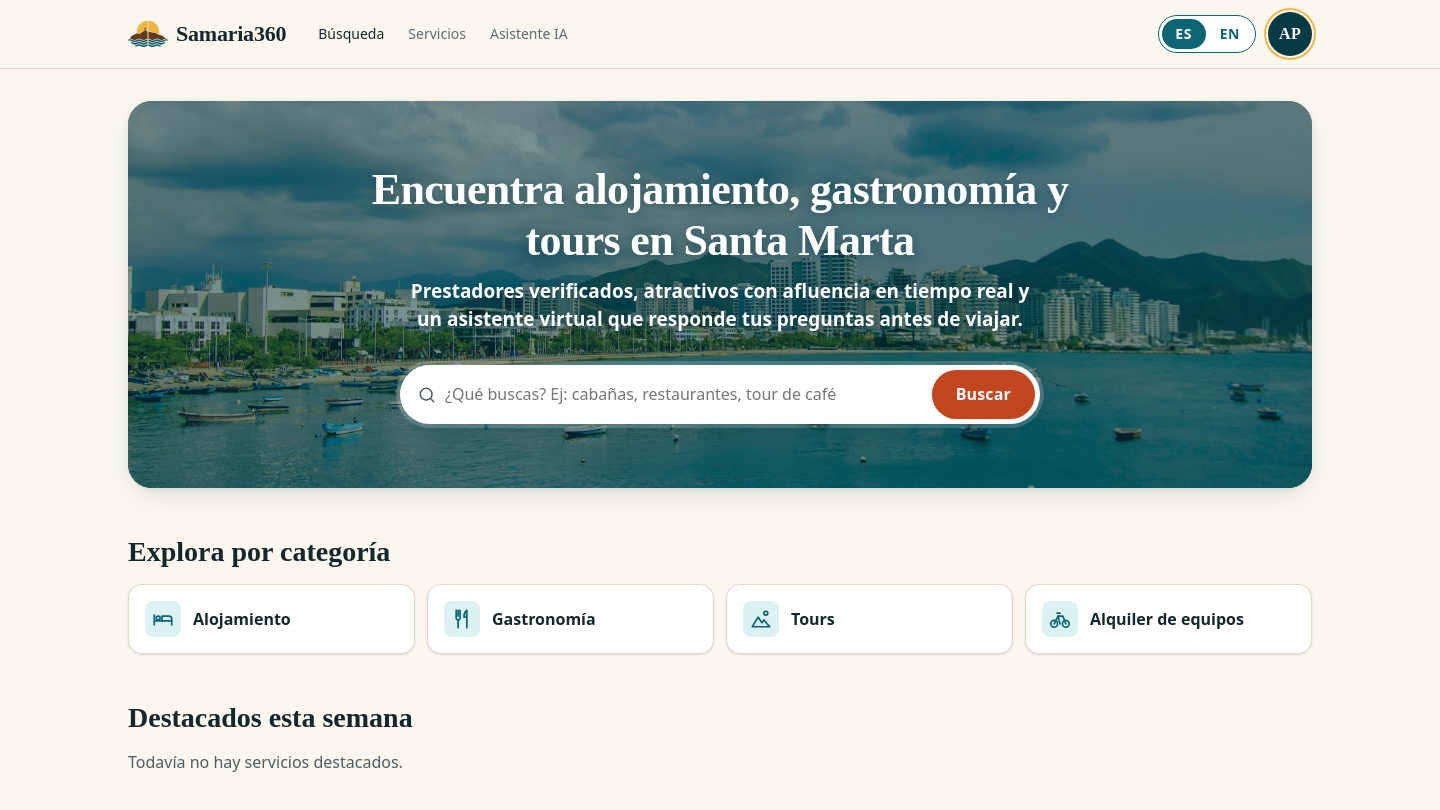
Test: Encabezado según la sesión › al cerrar sesión, el enlace vuelve sin recargar
The width and height of the screenshot is (1440, 810).
Click the button with aria-label "Menú de usuario de Ana Pérez".
click(1290, 34)  # box [1268,12,1312,56]
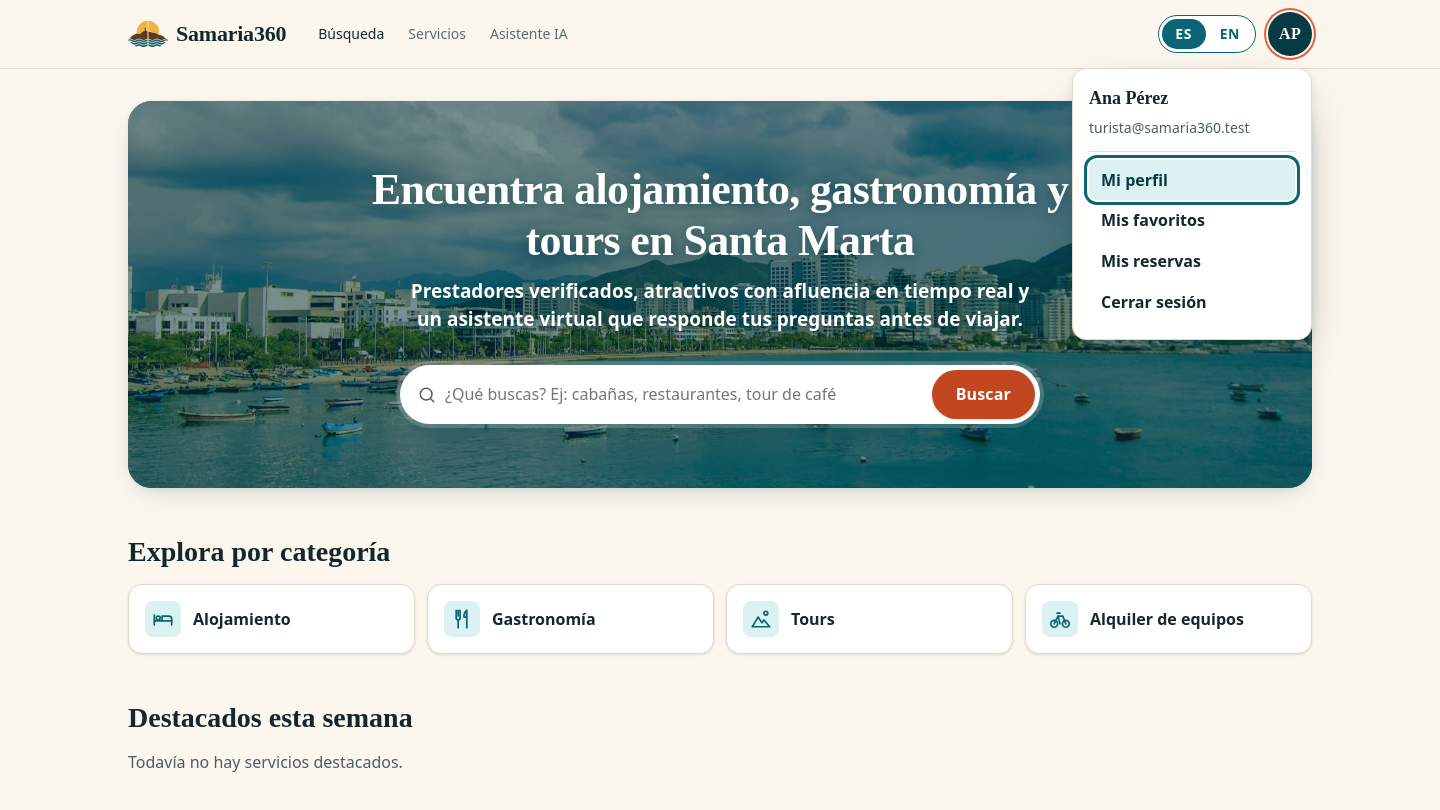
Click the menu item "Cerrar sesión".
click(1192, 302)  # box [1089,282,1295,323]
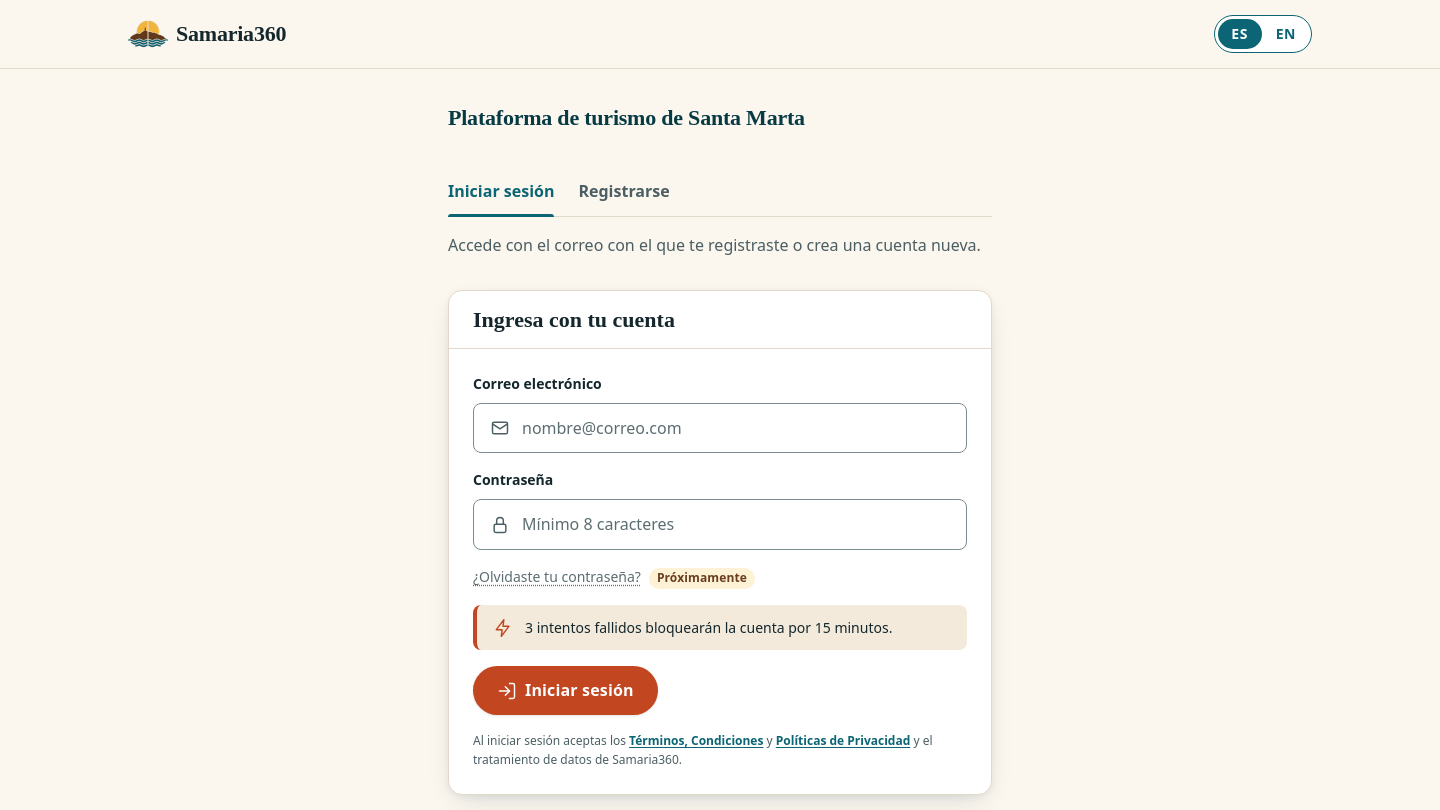
Expected: the field labelled "Correo electrónico" is shown, [522,404,950,452]
Click the link with aria-label "Samaria360, ir al inicio".
click(207, 34)  # box [128,14,286,54]
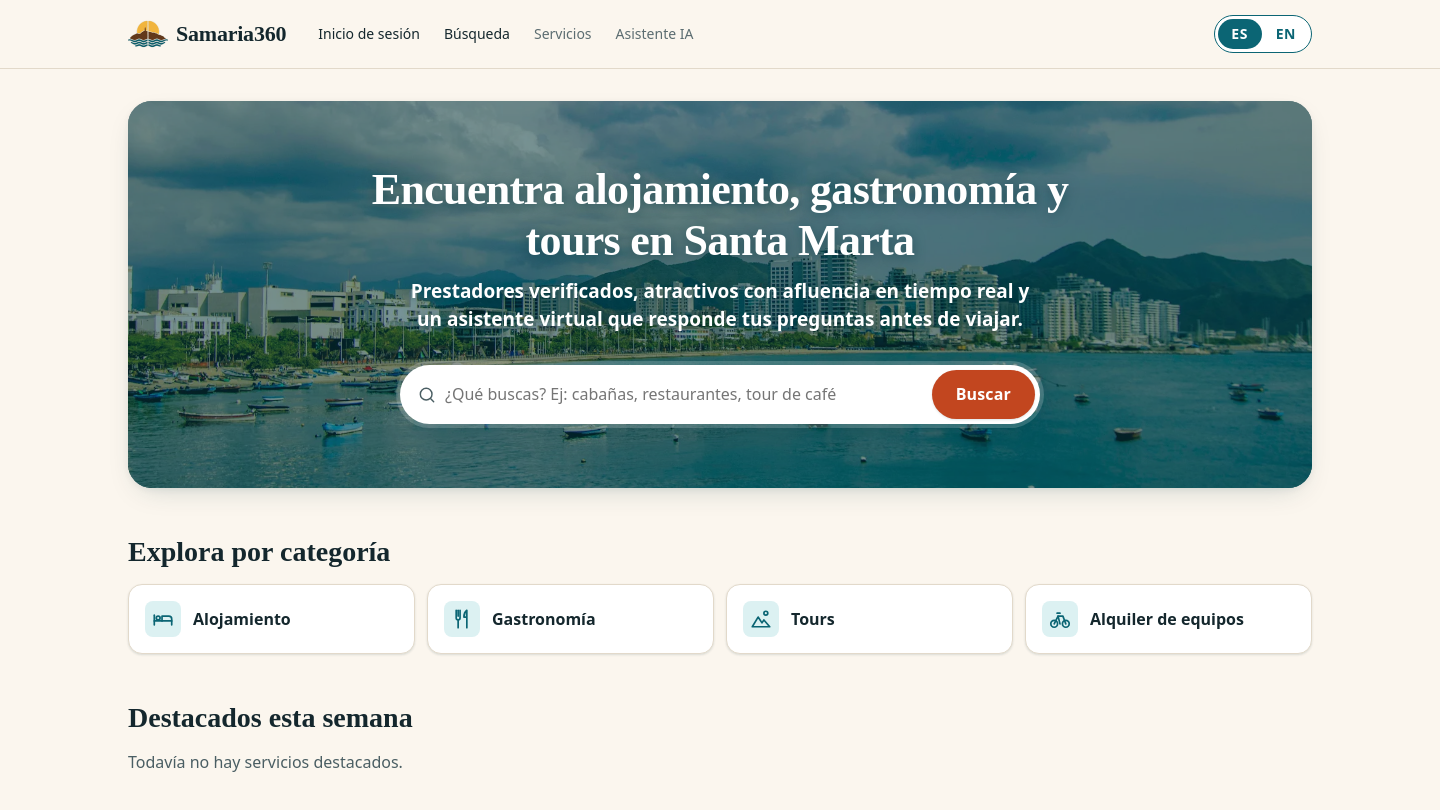
Expected: the link "Inicio de sesión" is shown, [318,15,420,53]
